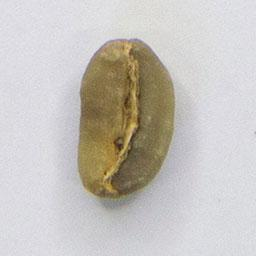longberry: (73, 35, 179, 203)
